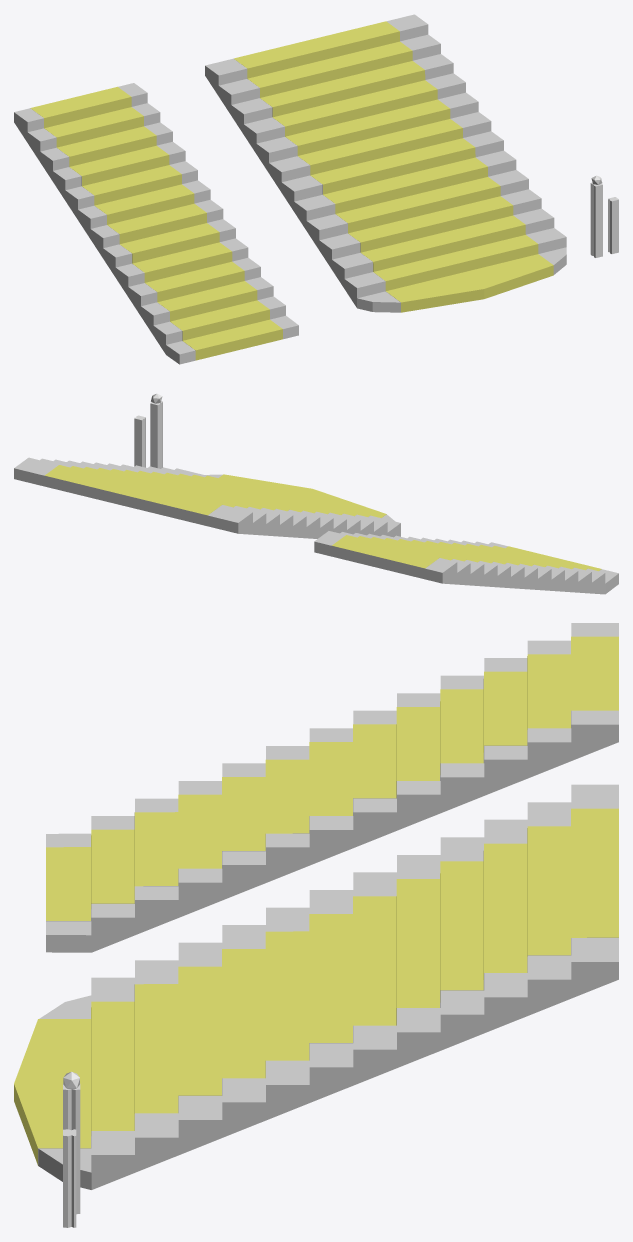
File: Stairs Pack.fbx
3 views of the same model, one above another, from view 1: azimuth 30°, elevation 25°; view 2: azimuth 150°, elevation 25°; view 3: azimuth 270°, elevation 25° (orthographic). The views are drawn at different scales.
Visible parts, largest first — view 1: Main Stairs, Small Stairs, Railing Pole, Railing; view 2: Main Stairs, Small Stairs, Railing Pole, Railing; view 3: Main Stairs, Small Stairs, Railing Pole, Railing.
Part boxes in pixels (x1,y1,x2,y2): Main Stairs: [205, 14, 566, 312]; Small Stairs: [14, 83, 298, 364]; Railing Pole: [590, 175, 602, 257]; Railing: [608, 197, 618, 253]; Main Stairs: [14, 457, 400, 538]; Small Stairs: [314, 531, 618, 594]; Railing Pole: [150, 393, 162, 468]; Railing: [134, 415, 145, 467]; Main Stairs: [14, 784, 618, 1189]; Small Stairs: [46, 623, 618, 952]; Railing Pole: [63, 1071, 80, 1214]; Railing: [63, 1129, 76, 1227].
Bounding box in the file's own units: 5.31 × 1.5 × 3.6.
